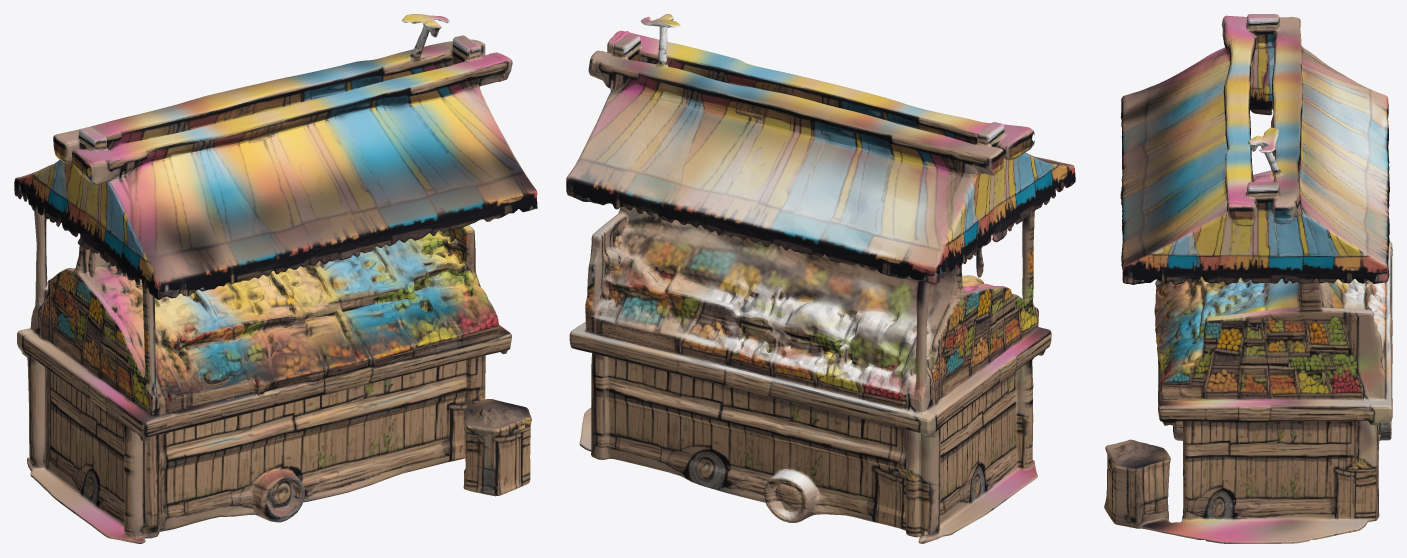
The model's file is market_stall.glb.
The picture shows the model from 3 angles, left to right: view 1: azimuth 30°, elevation 25°; view 2: azimuth 150°, elevation 25°; view 3: azimuth 270°, elevation 25°; orthographic projection. The views are drawn at different scales.
Parts seen in each view (by area): view 1: market_stall; view 2: market_stall; view 3: market_stall.
Part boxes in pixels (box(x1,y1,x2,y2)): market_stall: box(14, 14, 537, 543); market_stall: box(566, 14, 1075, 543); market_stall: box(1104, 14, 1392, 543).
Bounding box in the file's own units: 2.77 × 2.63 × 1.76.
Materials: 1 (1 with a texture image).
